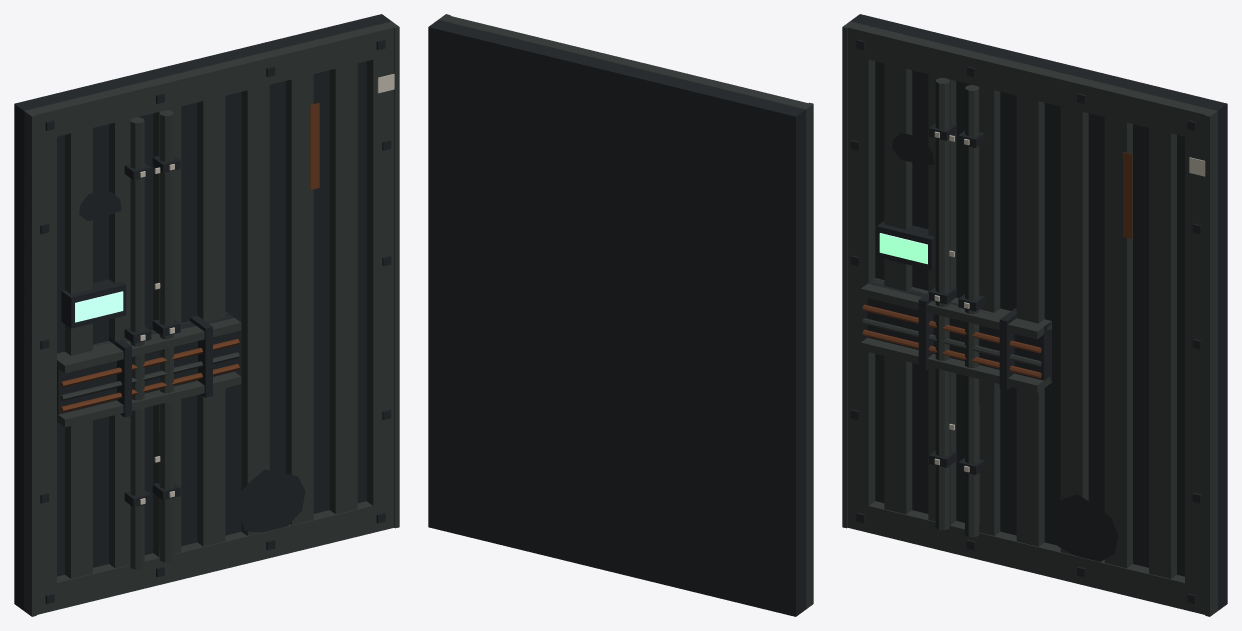
File: wall_panel_b.glb
3 renders of one model, left to right at view 1: azimuth 30°, elevation 25°; view 2: azimuth 150°, elevation 25°; view 3: azimuth 330°, elevation 25°, orthographic.
Visible parts, largest first — view 1: wall_panel_b; view 2: wall_panel_b; view 3: wall_panel_b.
Part boxes in pixels (x1=…): wall_panel_b: x1=14, y1=14, x2=399, y2=616; wall_panel_b: x1=428, y1=14, x2=813, y2=616; wall_panel_b: x1=842, y1=14, x2=1227, y2=616.
Size of the model in its own units: 2 by 2.6 by 0.246.
